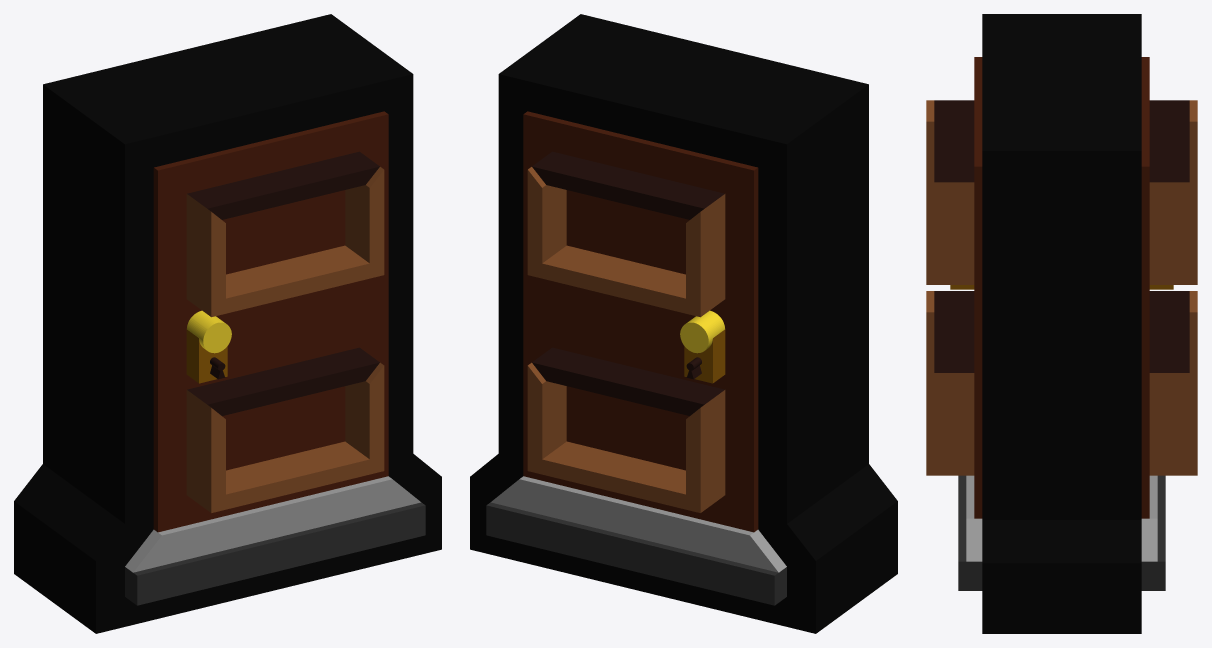
3 renders of one model, left to right at view 1: azimuth 30°, elevation 25°; view 2: azimuth 150°, elevation 25°; view 3: azimuth 270°, elevation 25°, orthographic. The views are drawn at different scales.
Visible parts, largest first — view 1: U+1F6AA_layer00_obj00, U+1F6AA_layer01_obj00, U+1F6AA_layer07_obj00, U+1F6AA_layer06_obj00, U+1F6AA_layer03_obj00, U+1F6AA_layer02_obj00, U+1F6AA_layer05_obj00, U+1F6AA_layer04_obj00; view 2: U+1F6AA_layer00_obj00, U+1F6AA_layer01_obj00, U+1F6AA_layer07_obj00, U+1F6AA_layer06_obj00, U+1F6AA_layer03_obj00, U+1F6AA_layer02_obj00, U+1F6AA_layer05_obj00, U+1F6AA_layer04_obj00; view 3: U+1F6AA_layer00_obj00, U+1F6AA_layer07_obj00, U+1F6AA_layer06_obj00, U+1F6AA_layer01_obj00, U+1F6AA_layer03_obj00, U+1F6AA_layer02_obj00.
Boxes of the visible parts, bbox=[...] form: U+1F6AA_layer00_obj00: bbox=[14, 14, 441, 633]; U+1F6AA_layer01_obj00: bbox=[153, 111, 388, 532]; U+1F6AA_layer07_obj00: bbox=[186, 167, 384, 512]; U+1F6AA_layer06_obj00: bbox=[187, 151, 379, 415]; U+1F6AA_layer03_obj00: bbox=[125, 502, 425, 605]; U+1F6AA_layer02_obj00: bbox=[125, 476, 420, 572]; U+1F6AA_layer05_obj00: bbox=[187, 310, 231, 353]; U+1F6AA_layer04_obj00: bbox=[186, 329, 227, 383]; U+1F6AA_layer00_obj00: bbox=[470, 14, 897, 633]; U+1F6AA_layer01_obj00: bbox=[523, 111, 758, 532]; U+1F6AA_layer07_obj00: bbox=[527, 167, 725, 512]; U+1F6AA_layer06_obj00: bbox=[532, 151, 724, 415]; U+1F6AA_layer03_obj00: bbox=[486, 502, 786, 605]; U+1F6AA_layer02_obj00: bbox=[491, 476, 786, 572]; U+1F6AA_layer05_obj00: bbox=[680, 310, 724, 353]; U+1F6AA_layer04_obj00: bbox=[684, 329, 725, 383]; U+1F6AA_layer00_obj00: bbox=[982, 14, 1141, 633]; U+1F6AA_layer07_obj00: bbox=[926, 100, 1197, 475]; U+1F6AA_layer06_obj00: bbox=[934, 100, 1189, 372]; U+1F6AA_layer01_obj00: bbox=[974, 57, 1149, 518]; U+1F6AA_layer03_obj00: bbox=[958, 475, 1165, 590]; U+1F6AA_layer02_obj00: bbox=[966, 475, 1157, 561].
Bounding box in the file's own units: 0.4868 × 0.649 × 0.34.
